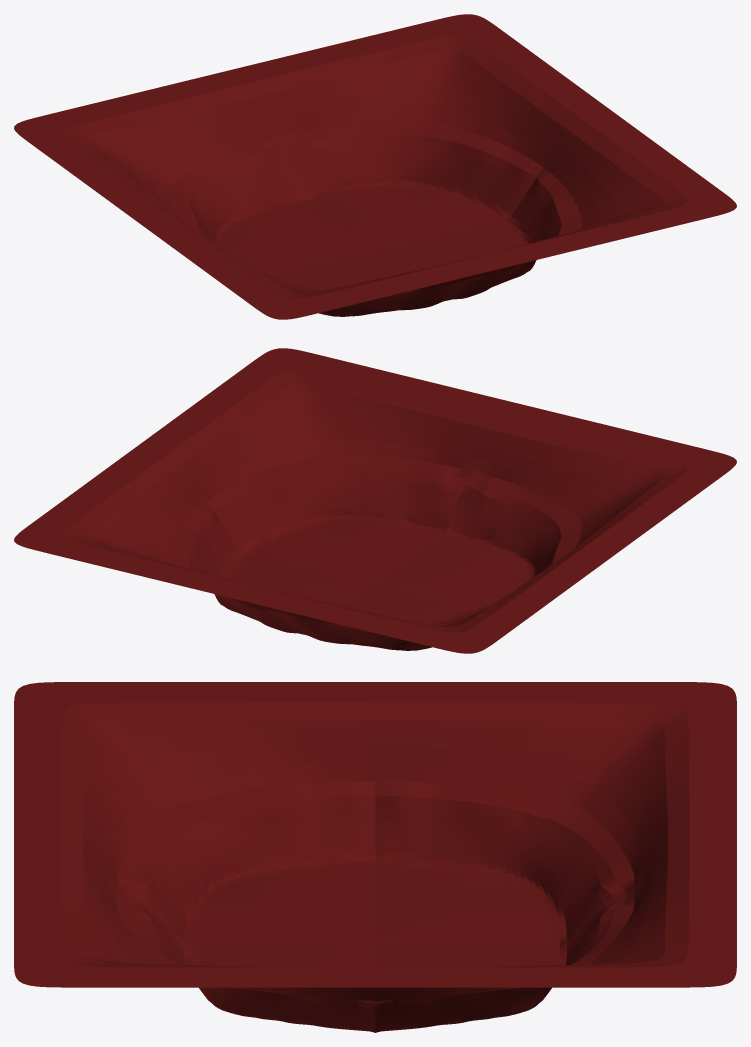
The model's file is map.fbx.
3 views of the same model, one above another, from view 1: azimuth 30°, elevation 25°; view 2: azimuth 150°, elevation 25°; view 3: azimuth 270°, elevation 25° (orthographic). The views are drawn at different scales.
Parts seen in each view (by area): view 1: Plane; view 2: Plane; view 3: Plane.
Part boxes in pixels (x1=…): Plane: x1=14, y1=14, x2=736, y2=319; Plane: x1=14, y1=348, x2=736, y2=653; Plane: x1=14, y1=682, x2=736, y2=1032.
Size of the model in its own units: 51813 by 51813 by 8902.
